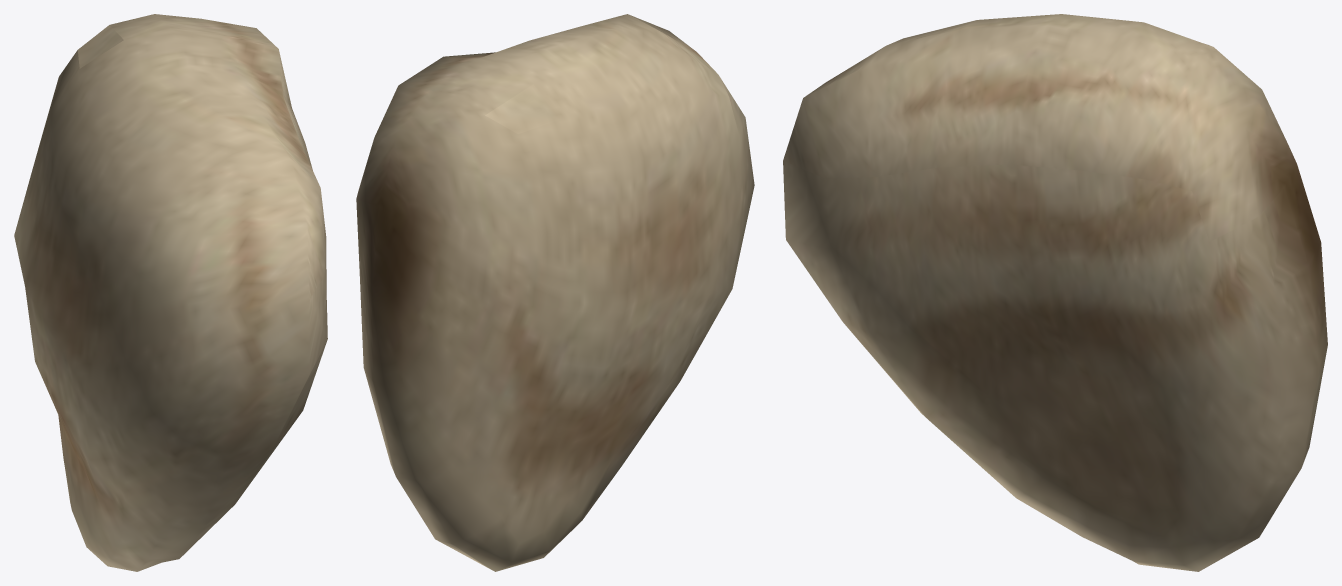
Rendered from Mandibular_Premolar3.glb.
3 views of the same model, side by side, from view 1: azimuth 30°, elevation 25°; view 2: azimuth 150°, elevation 25°; view 3: azimuth 270°, elevation 25° (orthographic). The views are drawn at different scales.
Parts seen in each view (by area): view 1: Premolar3; view 2: Premolar3; view 3: Premolar3.
Boxes of the visible parts, x1,y1,x2,y2 form: Premolar3: [14, 14, 327, 571]; Premolar3: [356, 14, 754, 571]; Premolar3: [783, 14, 1327, 571].
Bounding box in the file's own units: 0.0208 × 0.038 × 0.0344.
Materials: 1 (1 with a texture image).
